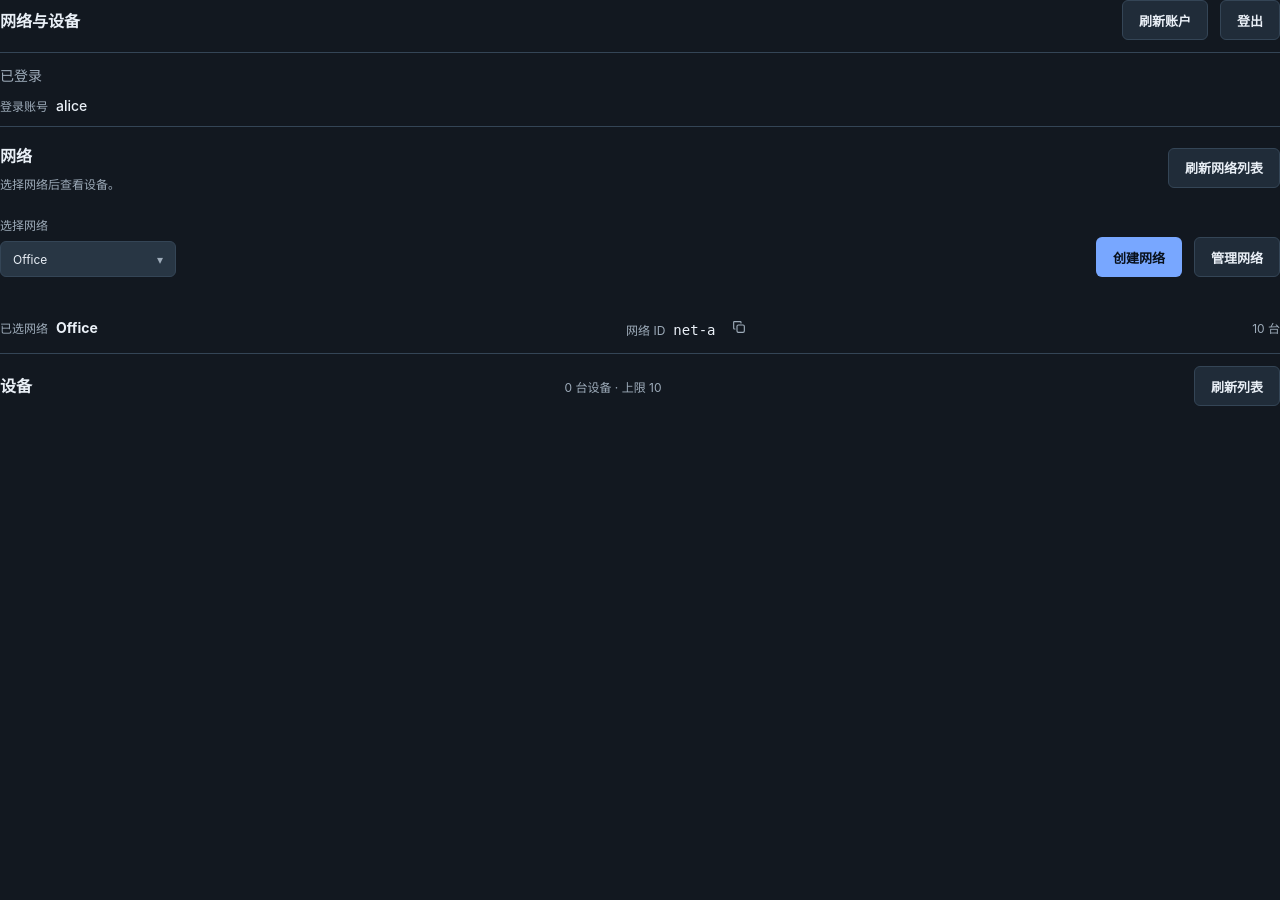
Test: P2P account public controls (component diagnostics) › uses one network picker and keeps the selected network summary visible
Expected: the element with test id "p2p-selected-network-summary" shows "Office", [56,318,98,336]
Expected: the text with test id "p2p-network-id" reads "net-a", [673,322,716,338]
Click the button with test id "p2p-network-manage-open": {"x": 1237, "y": 257} [1194,237,1279,277]
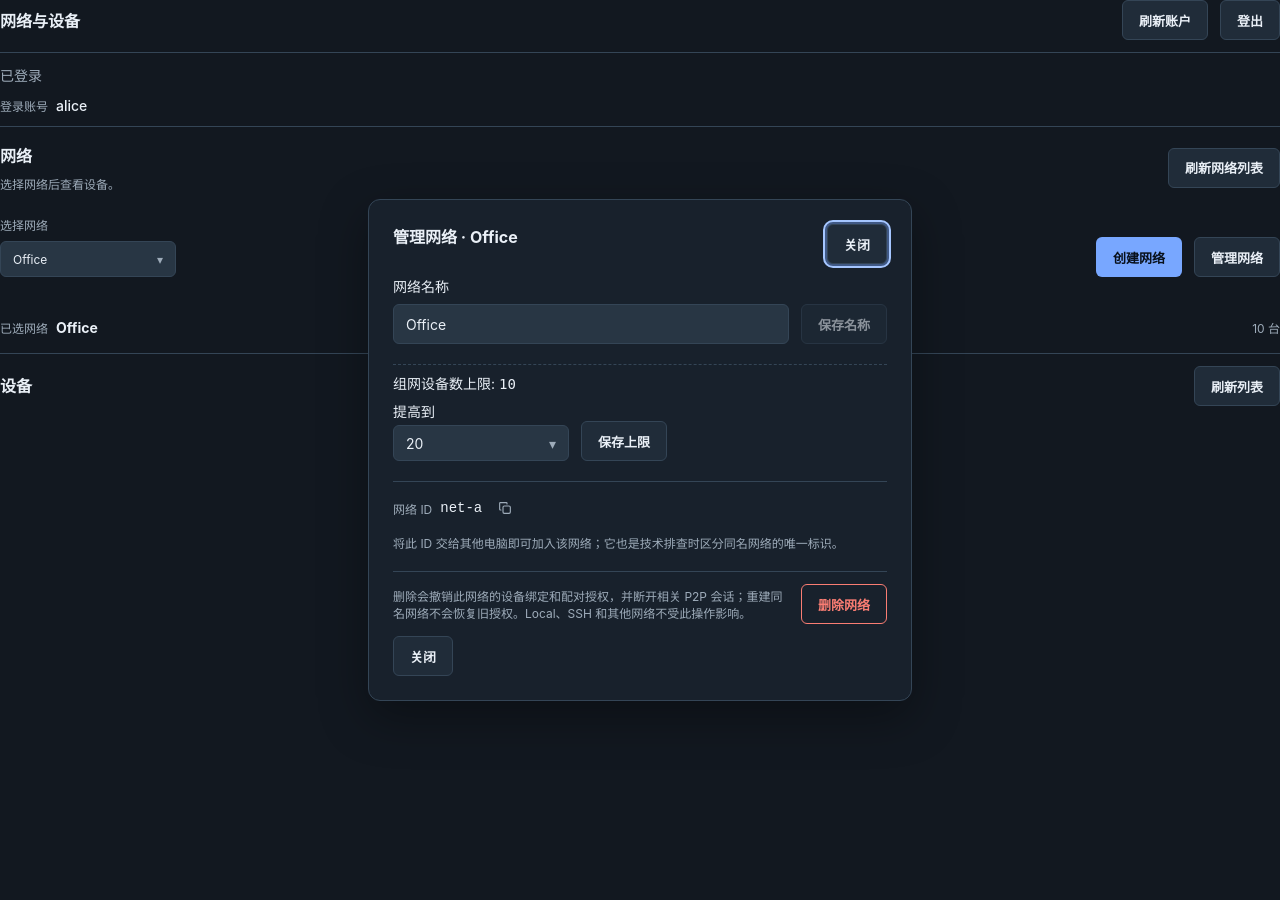
Expected: the dialog with test id "p2p-network-manage-dialog" shows "net-a", [440,500,482,516]
Click the button "关闭" in the row of "管理网络 · Office": {"x": 857, "y": 244} [827,224,887,264]
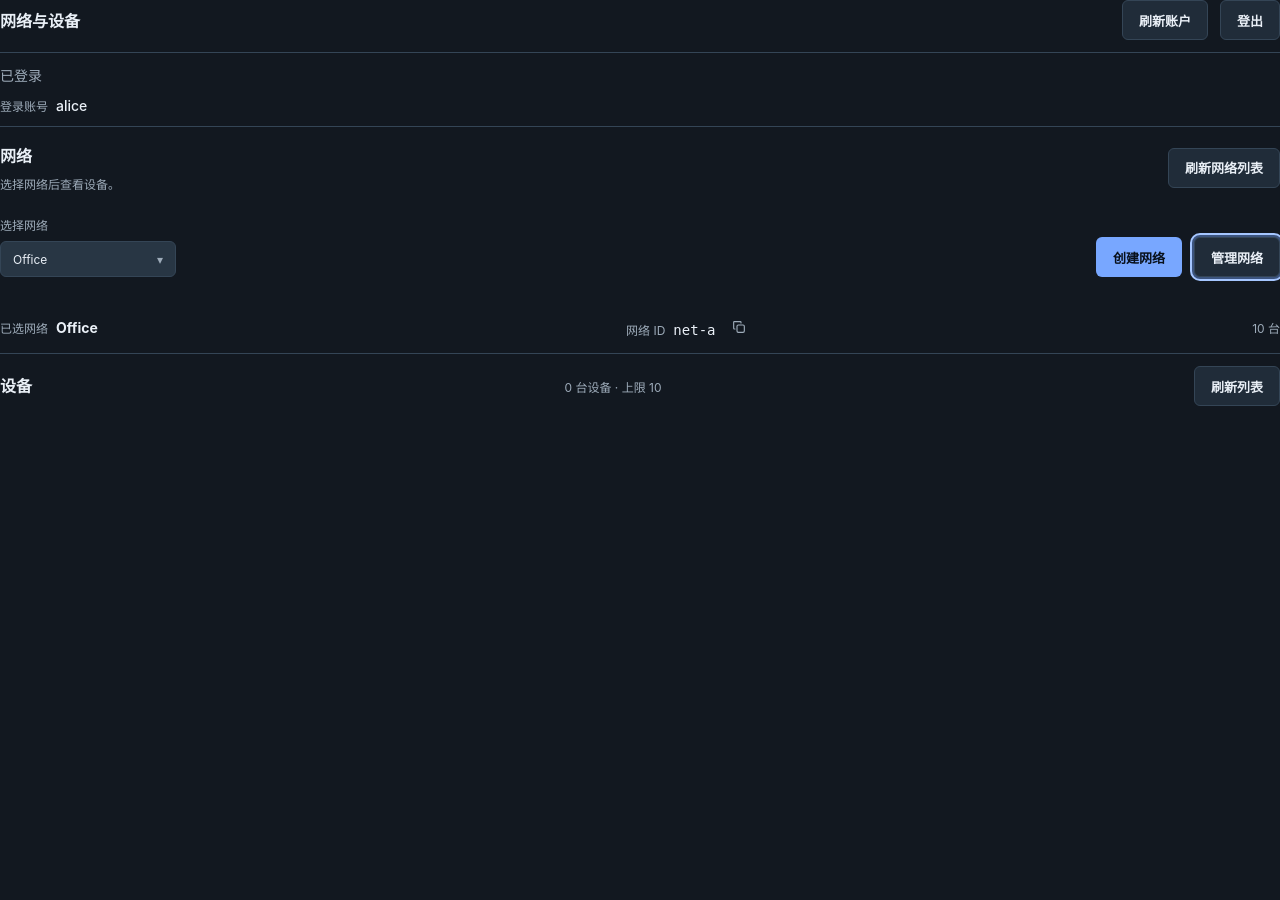
Click the button with test id "p2p-network-create-open": {"x": 1139, "y": 257} [1096,237,1182,277]
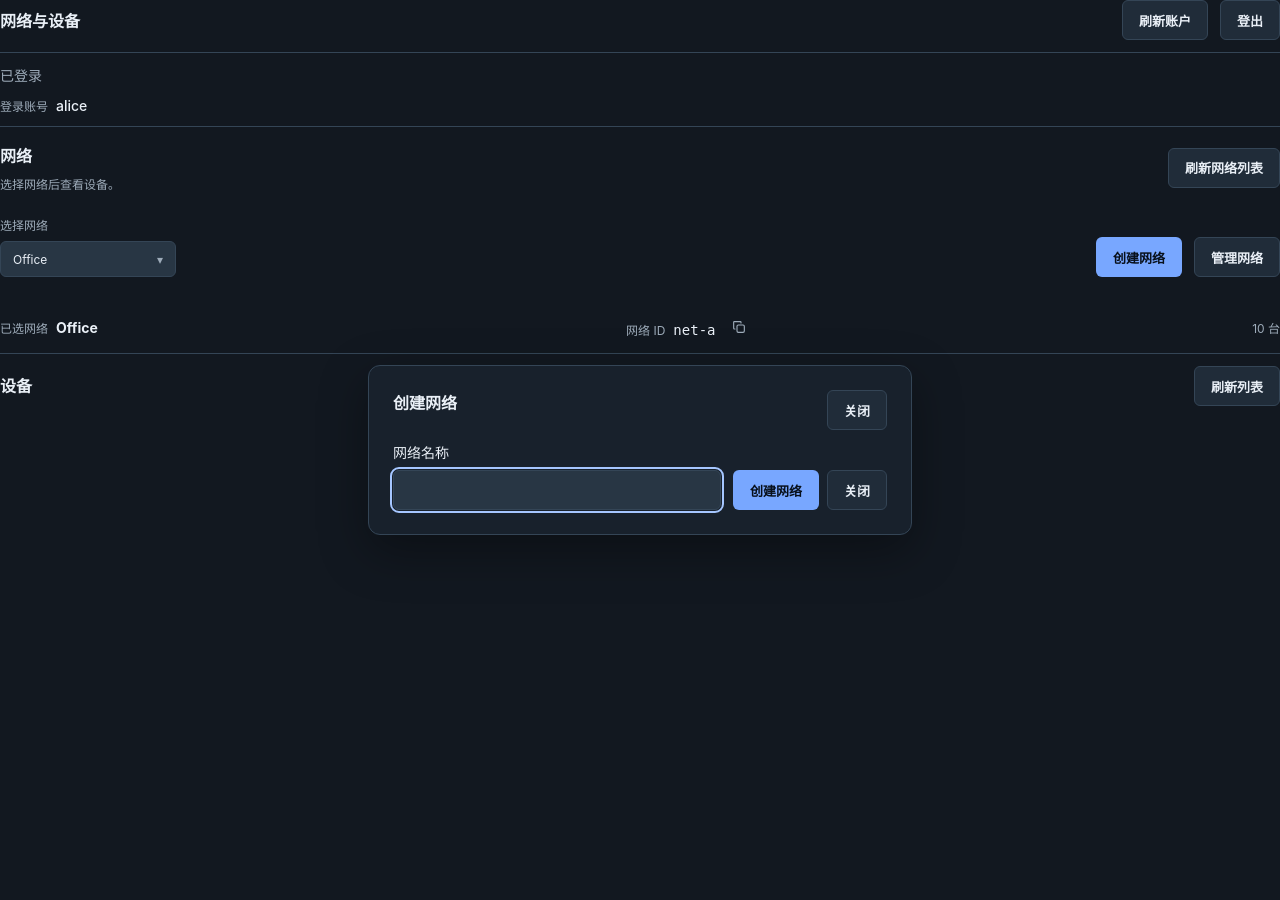
Expected: the dialog with test id "p2p-network-create-dialog" is shown, [368,365,912,535]
